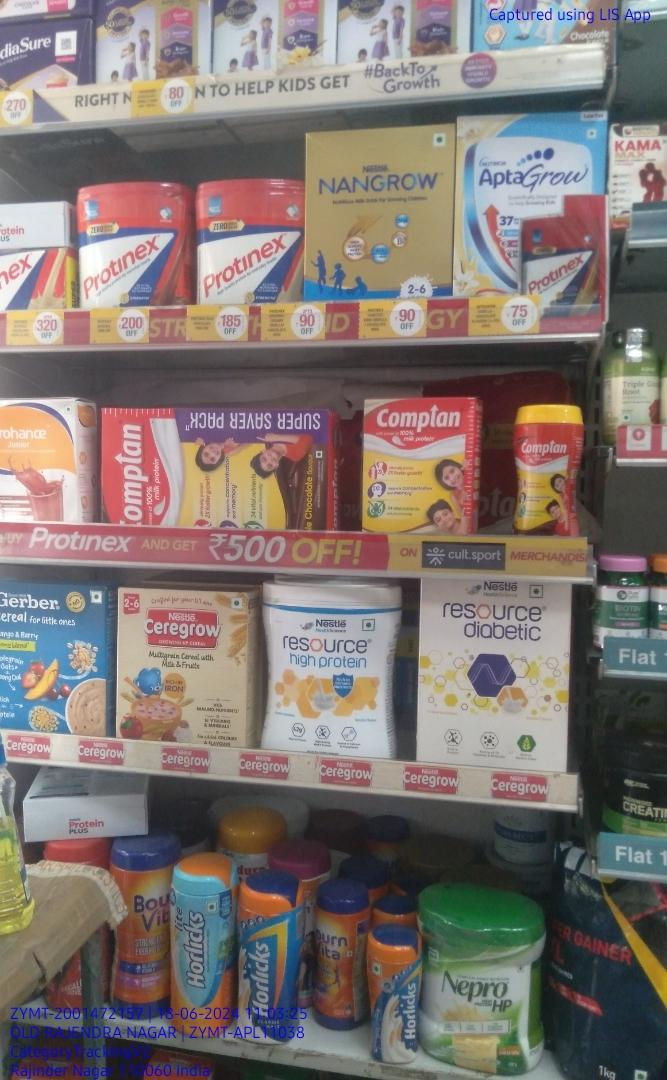BOURN_VITA_1_KG_JAR: (108, 843, 167, 1021)
BOURN_VITA_500_G_JAR: (314, 887, 357, 1031)
COMPLAN_CHOCOLATE_200_GMS_JAR: (511, 402, 579, 537)
COMPLAN_KESAR_BADAM_200_GMS_PACK: (362, 398, 474, 535)
HORLICK_CLASSIC_MALT_200_G_JAR: (364, 927, 418, 1064)
HORLICK_CLASSIC_MALT_500_G_JAR: (238, 874, 298, 1046)
PROTINEX_CHOCOLATE_400_G_JAR: (78, 185, 189, 305)
PROTINEX_VANILLA_400_G_JAR: (192, 179, 300, 301)
